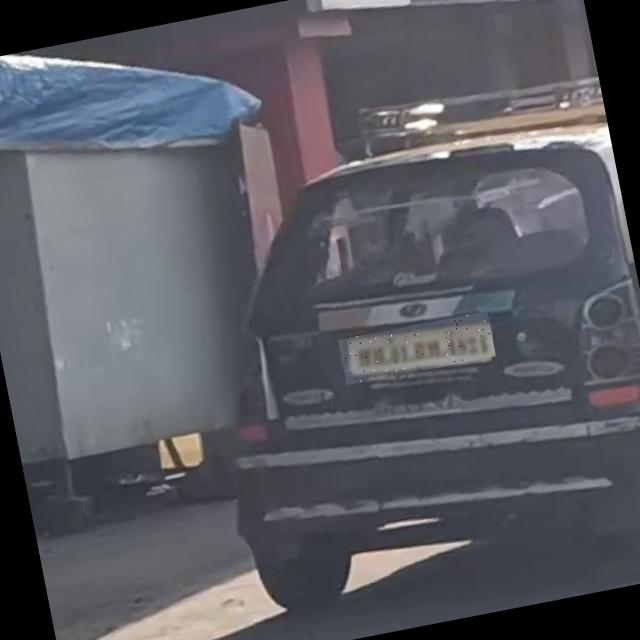Plate: (339, 312, 497, 386)
